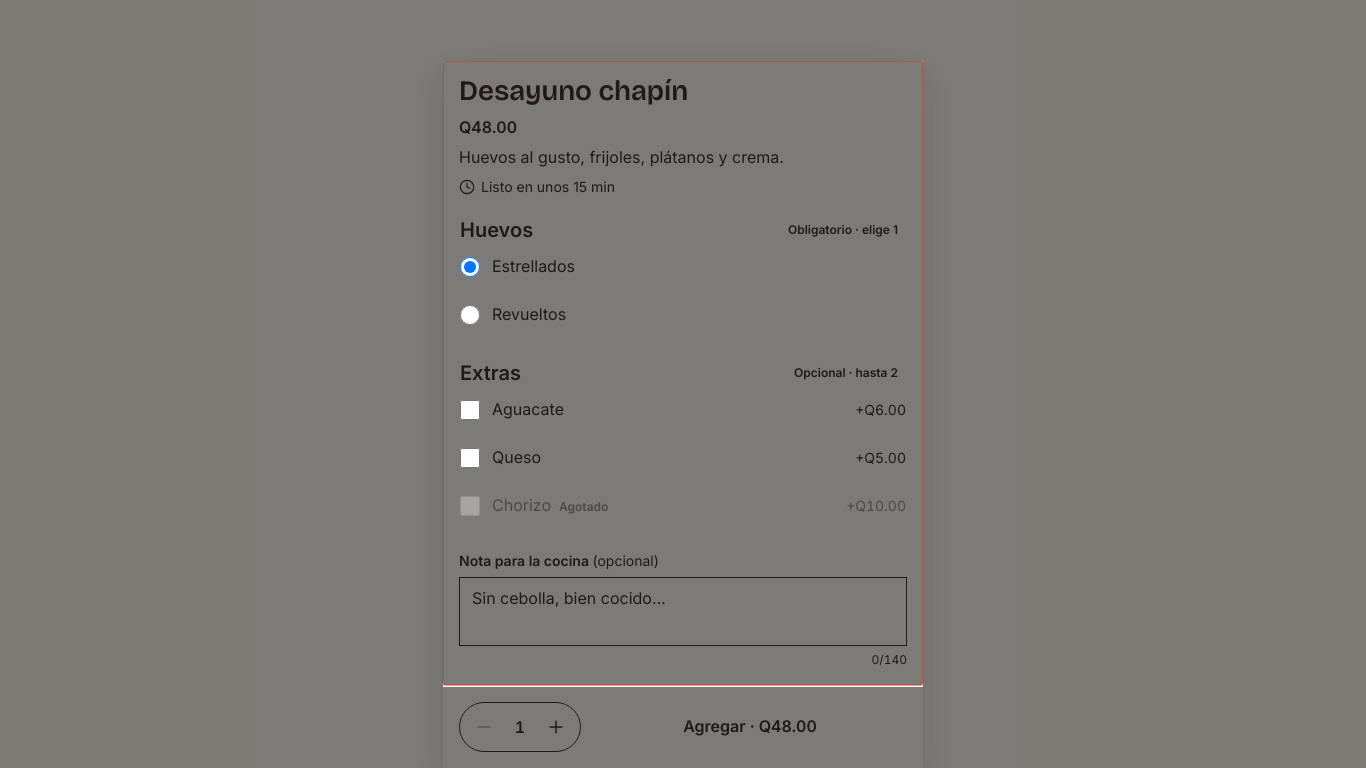
Test: <ProductSheet /> › respeta el máximo del grupo y no deja elegir lo agotado
The width and height of the screenshot is (1366, 768).
(page scrolled)
expect the checkbox labelled "Chorizo" is disabled: met, box [460,496,480,516]
Click the checkbox labelled "Aguacate +Q6.00" at (470, 410), box [460,400,480,420]
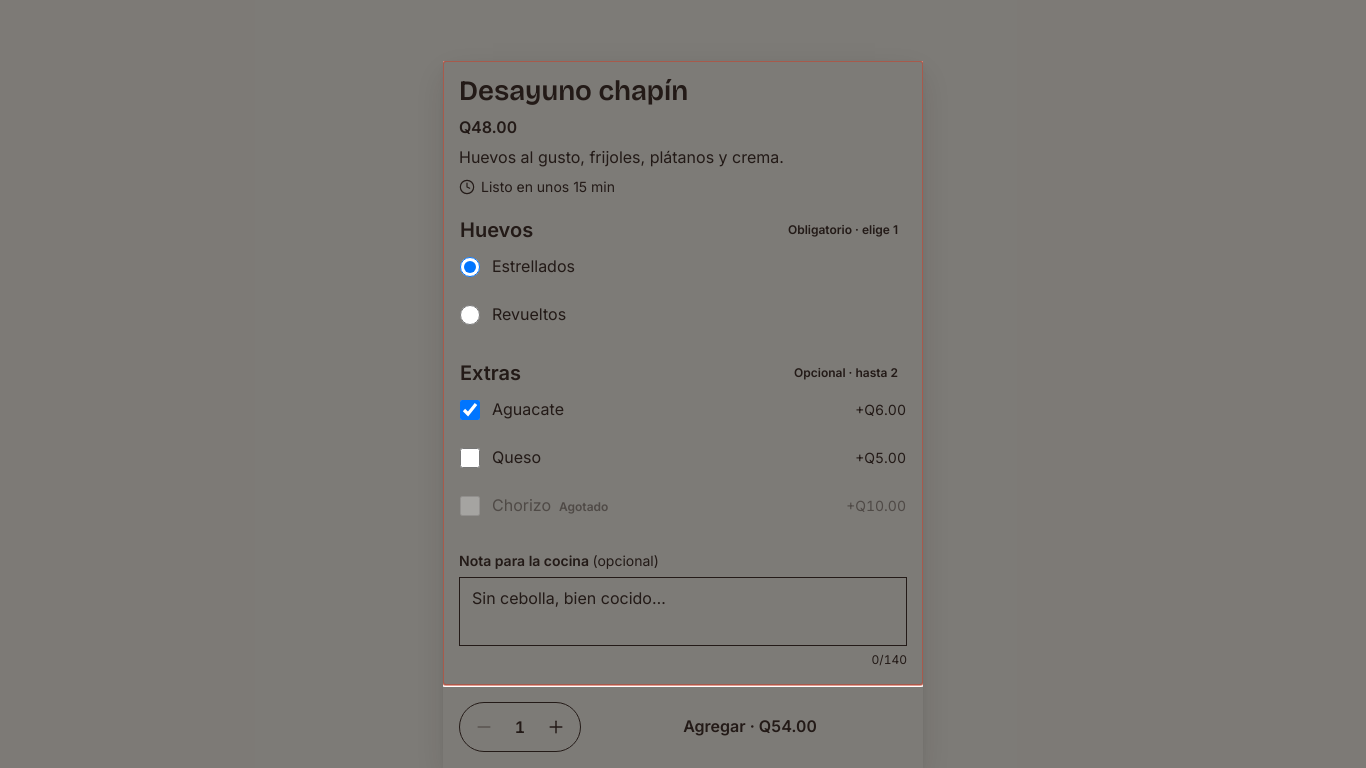
Click the checkbox labelled "Queso +Q5.00" at (470, 458), box [460,448,480,468]
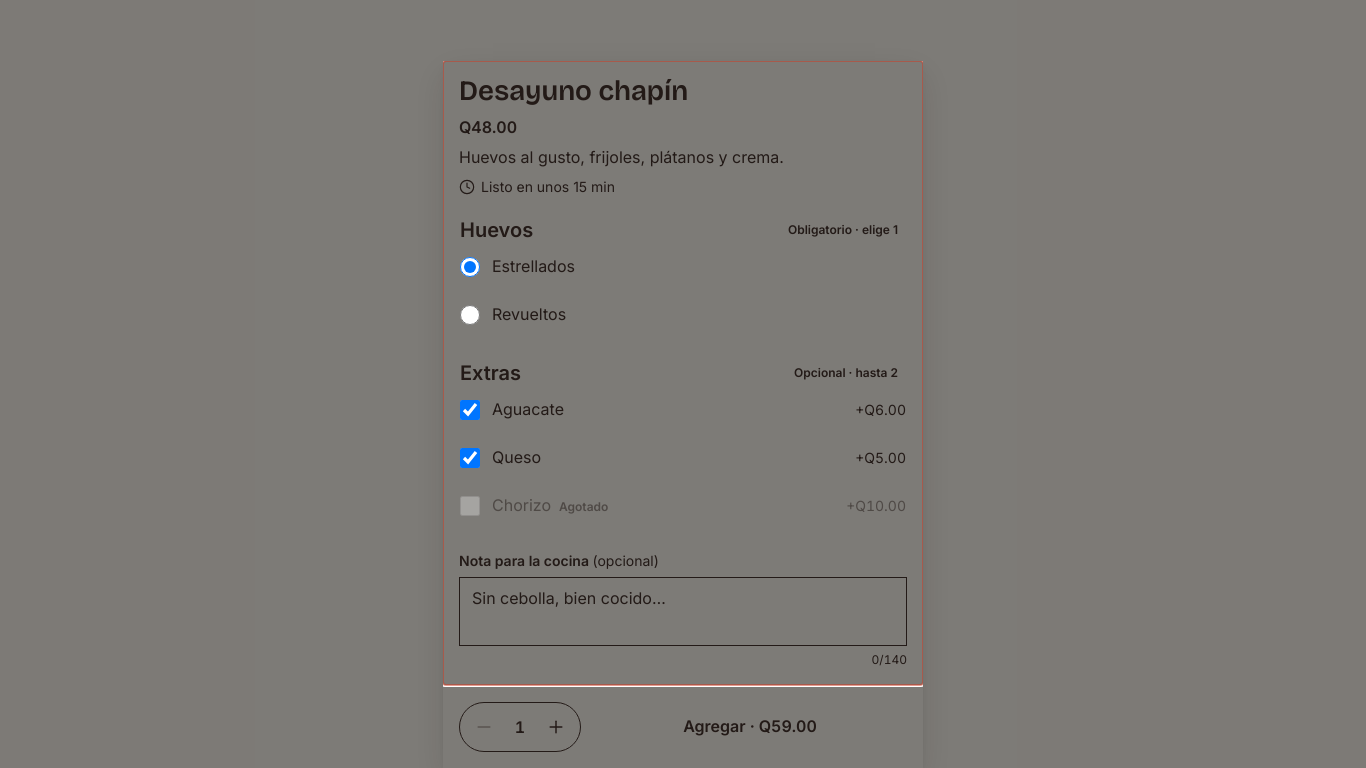
expect the button "Agregar · Q59.00" is shown: met, box [593,703,907,751]
